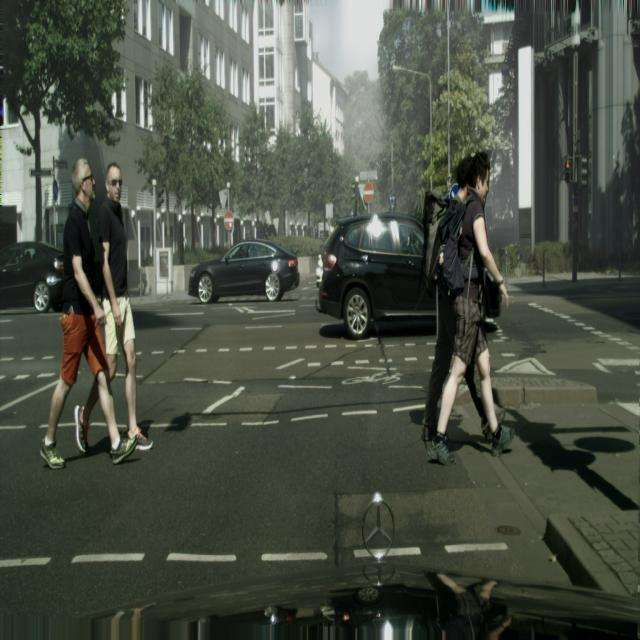person: (41, 158, 135, 469), (426, 151, 514, 464), (76, 163, 148, 457)
truck: (317, 212, 438, 339), (188, 239, 300, 304), (0, 241, 65, 313)
